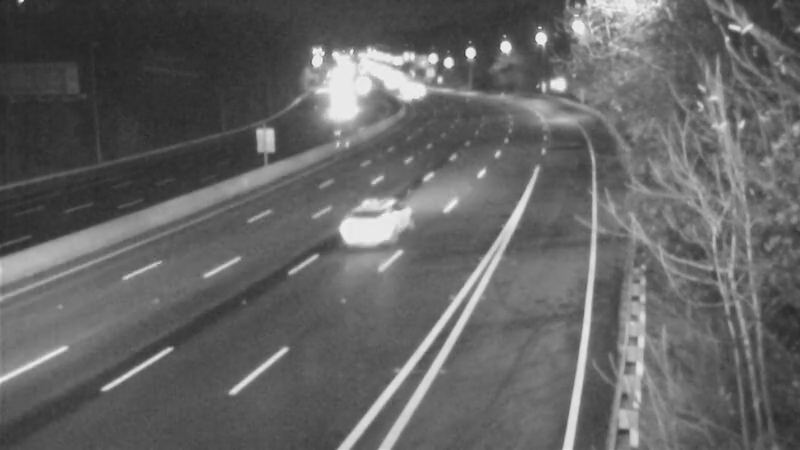vehicle: (325, 182, 405, 262)
